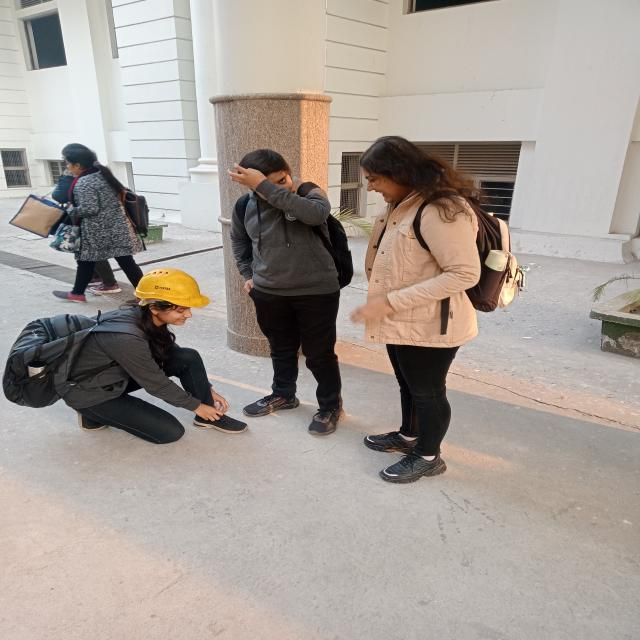no jacket: (71, 267, 249, 438)
unsafe: (353, 134, 492, 483), (223, 152, 362, 434), (50, 146, 147, 298)
